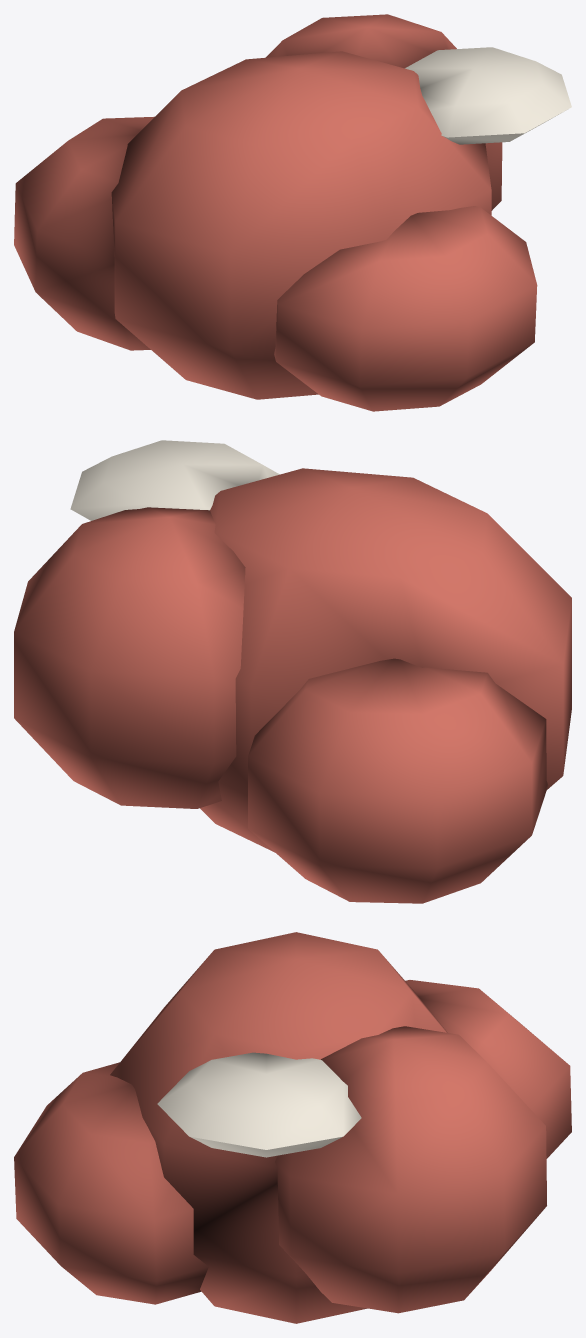
File: forage_truffle.glb
3 renders of one model, top to bottom at view 1: azimuth 30°, elevation 25°; view 2: azimuth 150°, elevation 25°; view 3: azimuth 270°, elevation 25°, orthographic. The views are drawn at different scales.
Parts seen in each view (by area): view 1: PART; view 2: PART; view 3: PART.
Boxes of the visible parts, x1,y1,x2,y2 form: PART: (14, 14, 571, 411); PART: (14, 440, 571, 903); PART: (14, 932, 571, 1323).
Bounding box in the file's own units: 0.0573 × 0.0374 × 0.0562.
